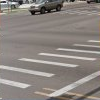crosswalk: (0, 39, 99, 88)
